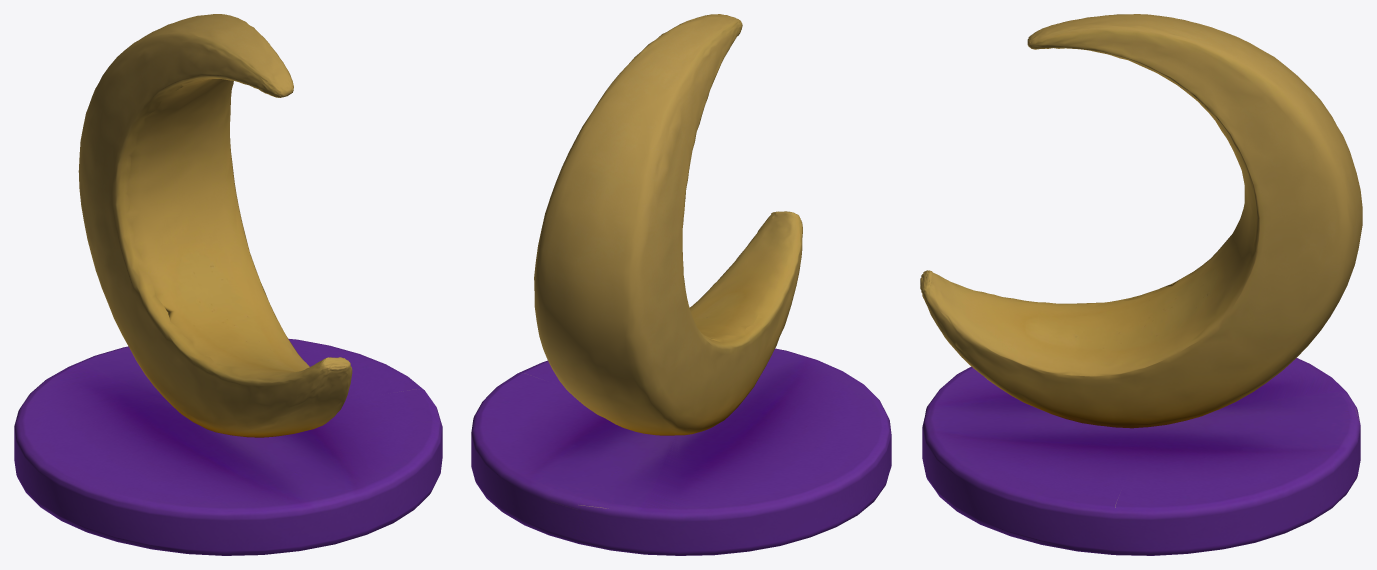
The model's file is r33-crescent.glb.
3 views of the same model, side by side, from view 1: azimuth 30°, elevation 25°; view 2: azimuth 150°, elevation 25°; view 3: azimuth 270°, elevation 25° (orthographic). The views are drawn at different scales.
Parts seen in each view (by area): view 1: tripo_node_f630ddde-926e-4aa4-9678-91fee63564e5; view 2: tripo_node_f630ddde-926e-4aa4-9678-91fee63564e5; view 3: tripo_node_f630ddde-926e-4aa4-9678-91fee63564e5.
Boxes of the visible parts, left/top/right/bottom form: tripo_node_f630ddde-926e-4aa4-9678-91fee63564e5: left=14, top=14, right=442, bottom=555; tripo_node_f630ddde-926e-4aa4-9678-91fee63564e5: left=471, top=14, right=891, bottom=555; tripo_node_f630ddde-926e-4aa4-9678-91fee63564e5: left=920, top=14, right=1362, bottom=555.
Size of the model in its own units: 0.8848 by 0.998 by 0.8926.
Materials: 1 (1 with a texture image).
